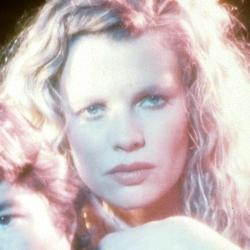face: (4, 3, 239, 203)
